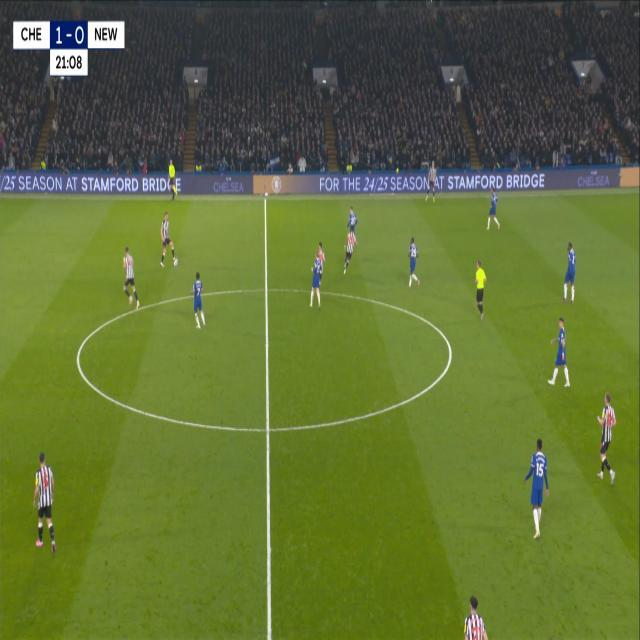Ball: (171, 252, 179, 270)
Chelsea: (521, 432, 552, 542), (546, 312, 572, 392), (188, 266, 208, 332), (562, 237, 576, 306), (406, 233, 421, 293), (486, 184, 502, 238)
Newcastle: (30, 448, 60, 558), (594, 388, 618, 484), (156, 206, 178, 272), (120, 244, 141, 312), (424, 158, 438, 206)
Refree: (472, 254, 489, 324)
